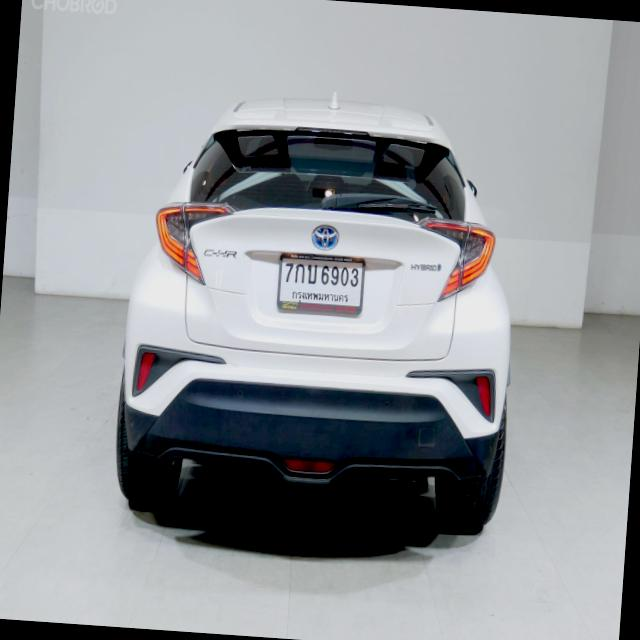license_plate: (270, 247, 372, 326)
